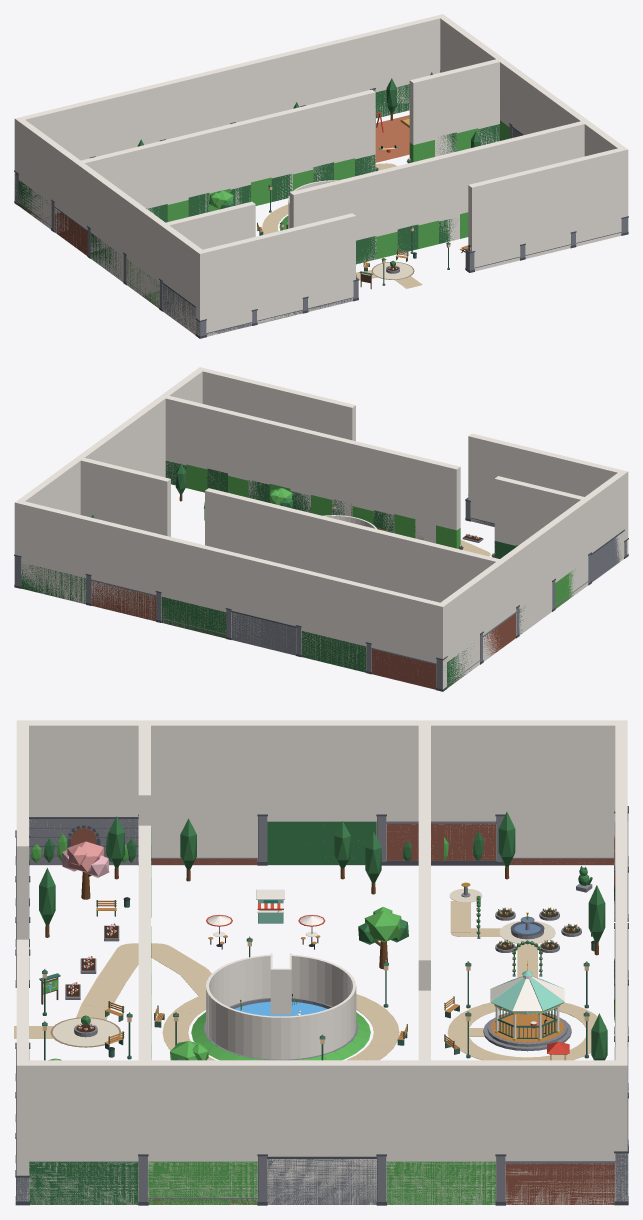
The model's file is CatCafe_Park_Set.glb.
3 views of the same model, one above another, from view 1: azimuth 30°, elevation 25°; view 2: azimuth 150°, elevation 25°; view 3: azimuth 270°, elevation 25° (orthographic). The views are drawn at different scales.
Parts seen in each view (by area): view 1: CatCafe_Park_Set_045_Walls_Barrier, CatCafe_Park_Set_049_Hedge_Barrier, CatCafe_Park_Set_046_Hedge_Barrier, CatCafe_Park_Set_049_Hedge, CatCafe_Park_Set, CatCafe_Park_Set_046_Hedge, CatCafe_Park_Set_017_WallBrick, CatCafe_Park_Set_011_WallStone, CatCafe_Park_Set_000_WallHedge, CatCafe_Park_Set_015_WallHedge, CatCafe_Park_Set_019_WallRail; view 2: CatCafe_Park_Set_045_Walls_Barrier, CatCafe_Park_Set_046_Hedge_Barrier, CatCafe_Park_Set_049_Hedge_Barrier, CatCafe_Park_Set_046_Hedge, CatCafe_Park_Set_006_WallStone, CatCafe_Park_Set_010_WallBrick, CatCafe_Park_Set_002_WallBrick, CatCafe_Park_Set_004_WallRail, CatCafe_Park_Set_008_WallHedge, CatCafe_Park_Set_000_WallHedge, CatCafe_Park_Set_011_WallStone, CatCafe_Park_Set_017_WallBrick (+2 smaller); view 3: CatCafe_Park_Set_045_Walls_Barrier, CatCafe_Park_Set, CatCafe_Park_Set_072_Pond_Barrier, CatCafe_Park_Set_024_WallStone, CatCafe_Park_Set_091_Bandstand, CatCafe_Park_Set_026_WallRail, CatCafe_Park_Set_020_WallBrick, CatCafe_Park_Set_022_WallHedge, CatCafe_Park_Set_028_WallHedge, CatCafe_Park_Set_017_WallBrick, CatCafe_Park_Set_046_Hedge_Barrier, CatCafe_Park_Set_049_Hedge_Barrier (+17 smaller).
Boxes of the visible parts, box(x1,y1,x2,y2) form: CatCafe_Park_Set_045_Walls_Barrier: box(14, 14, 628, 336); CatCafe_Park_Set_049_Hedge_Barrier: box(81, 59, 499, 215); CatCafe_Park_Set_046_Hedge_Barrier: box(166, 121, 584, 263); CatCafe_Park_Set_049_Hedge: box(146, 124, 499, 222); CatCafe_Park_Set: box(262, 115, 422, 288); CatCafe_Park_Set_046_Hedge: box(356, 212, 468, 264); CatCafe_Park_Set_017_WallBrick: box(54, 205, 87, 255); CatCafe_Park_Set_011_WallStone: box(162, 282, 196, 334); CatCafe_Park_Set_000_WallHedge: box(375, 84, 409, 118); CatCafe_Park_Set_015_WallHedge: box(90, 232, 120, 278); CatCafe_Park_Set_019_WallRail: box(18, 180, 51, 225); CatCafe_Park_Set_045_Walls_Barrier: box(14, 367, 628, 689); CatCafe_Park_Set_046_Hedge_Barrier: box(165, 396, 584, 553); CatCafe_Park_Set_049_Hedge_Barrier: box(80, 458, 499, 602); CatCafe_Park_Set_046_Hedge: box(165, 461, 518, 558); CatCafe_Park_Set_006_WallStone: box(231, 610, 296, 655); CatCafe_Park_Set_010_WallBrick: box(371, 647, 436, 689); CatCafe_Park_Set_002_WallBrick: box(91, 579, 156, 621); CatCafe_Park_Set_004_WallRail: box(161, 597, 226, 638); CatCafe_Park_Set_008_WallHedge: box(301, 631, 366, 672); CatCafe_Park_Set_000_WallHedge: box(21, 564, 86, 603); CatCafe_Park_Set_011_WallStone: box(591, 529, 624, 581); CatCafe_Park_Set_017_WallBrick: box(483, 611, 516, 656); CatCafe_Park_Set_045_Walls_Barrier: box(16, 720, 627, 1204); CatCafe_Park_Set: box(14, 888, 606, 1060); CatCafe_Park_Set_072_Pond_Barrier: box(206, 953, 356, 1059); CatCafe_Park_Set_024_WallStone: box(267, 1156, 377, 1204); CatCafe_Park_Set_091_Bandstand: box(483, 960, 571, 1051); CatCafe_Park_Set_026_WallRail: box(147, 1161, 258, 1204); CatCafe_Park_Set_020_WallBrick: box(505, 1161, 615, 1204); CatCafe_Park_Set_022_WallHedge: box(386, 1161, 495, 1204); CatCafe_Park_Set_028_WallHedge: box(29, 1161, 138, 1204); CatCafe_Park_Set_017_WallBrick: box(386, 821, 496, 865); CatCafe_Park_Set_046_Hedge_Barrier: box(138, 725, 150, 1060); CatCafe_Park_Set_049_Hedge_Barrier: box(418, 725, 430, 1060).
Size of the model in its own units: 160 by 30.05 by 120.
1 material, 1 textured.
